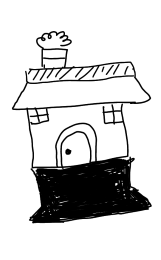closed_window: (97, 100, 128, 125), (23, 105, 55, 127)
door: (53, 120, 100, 171)
roof: (7, 59, 154, 114)
shadow: (25, 154, 154, 224)
smoking_chimney: (24, 20, 82, 72)
wall: (24, 98, 132, 169)
